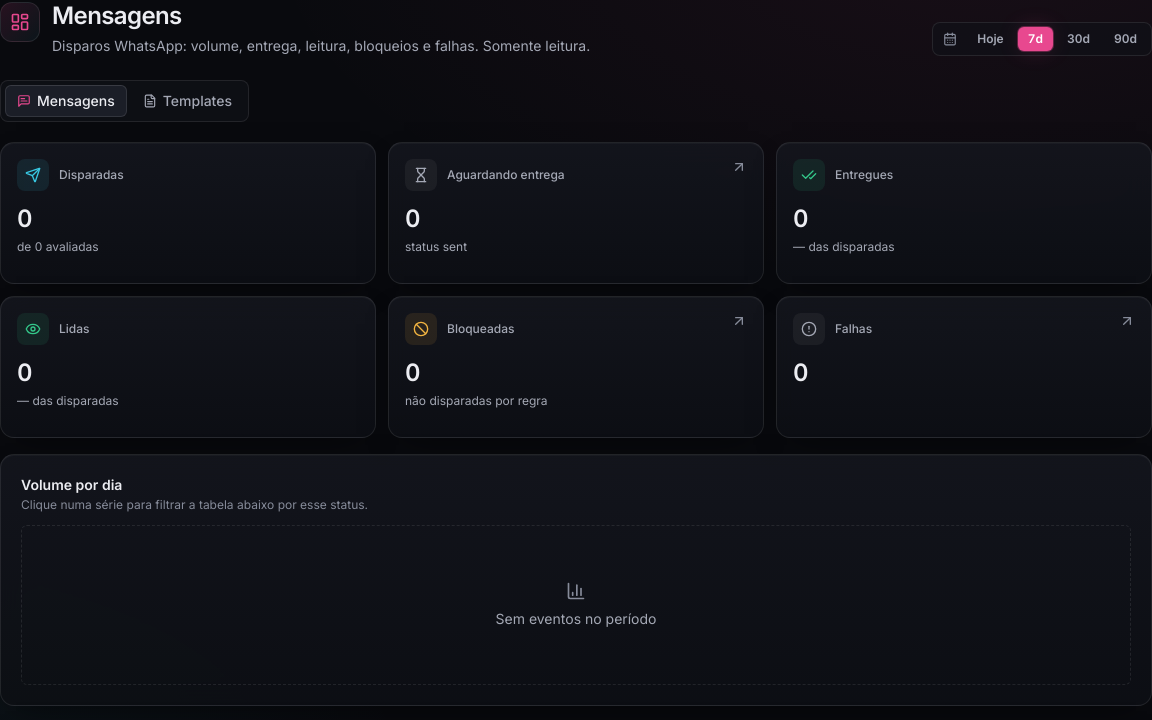
MessagesPage › templates: volume, último uso e status Meta não inferido
Click the tab "Templates" at (187, 101), box [131, 85, 244, 117]
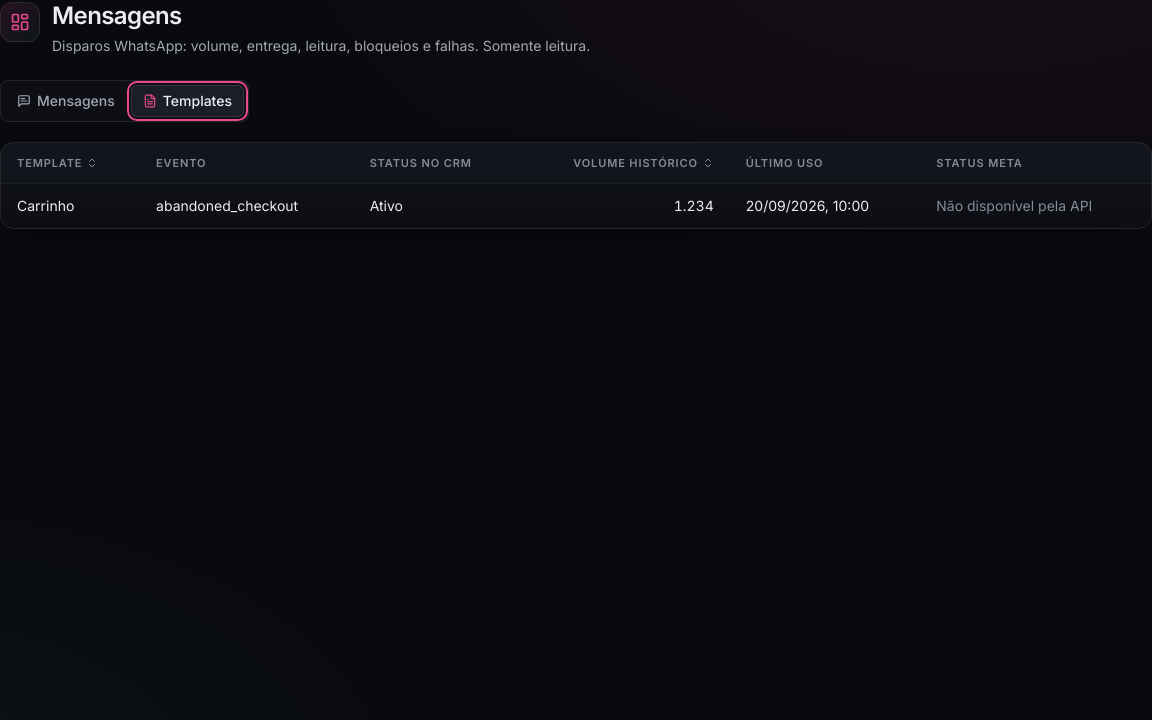
Result: the text "Carrinho" is shown at [17, 197, 74, 214]
Result: the text "1.234" is shown at [518, 184, 730, 228]
Result: the text "Não disponível pela API" is shown at [936, 197, 1092, 214]
